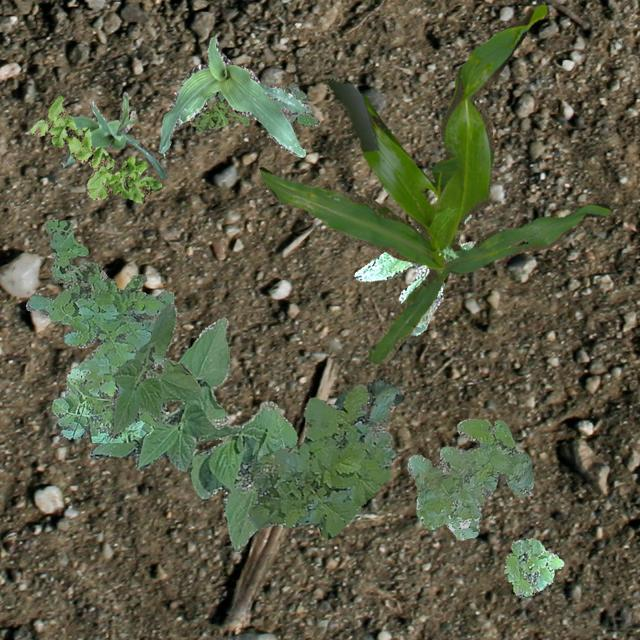crop: (257, 2, 608, 364), (88, 316, 296, 552), (158, 34, 308, 156), (108, 301, 200, 438), (62, 90, 166, 178), (332, 378, 402, 407)
weed: (24, 218, 172, 442), (247, 384, 398, 538), (406, 418, 532, 538), (354, 213, 474, 334), (28, 95, 160, 202), (502, 536, 562, 598), (188, 100, 248, 130), (280, 81, 318, 126)
